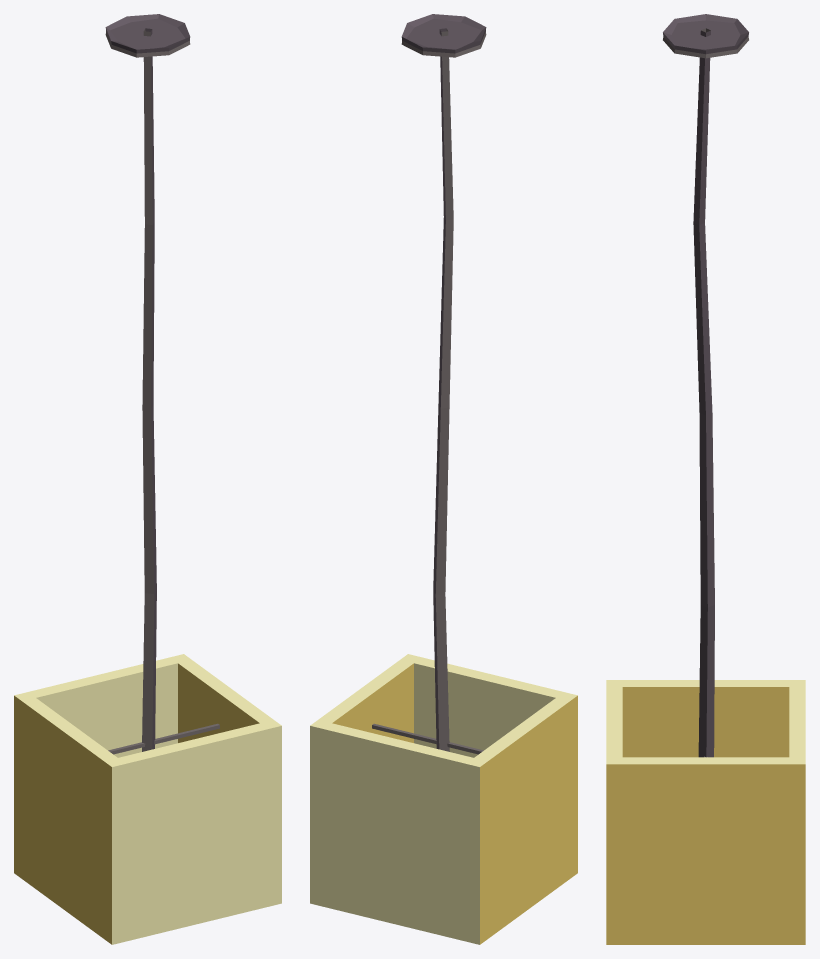
The model's file is Hanging Lamp.fbx.
The picture shows the model from 3 angles, left to right: view 1: azimuth 30°, elevation 25°; view 2: azimuth 150°, elevation 25°; view 3: azimuth 270°, elevation 25°; orthographic projection.
Parts seen in each view (by area): view 1: Hanging Lamp; view 2: Hanging Lamp; view 3: Hanging Lamp.
Boxes of the visible parts, box(x1,y1,x2,y2) form: Hanging Lamp: box(14, 14, 281, 944); Hanging Lamp: box(310, 14, 577, 944); Hanging Lamp: box(606, 14, 805, 944).
Size of the model in its own units: 60.5 by 292 by 60.5.
